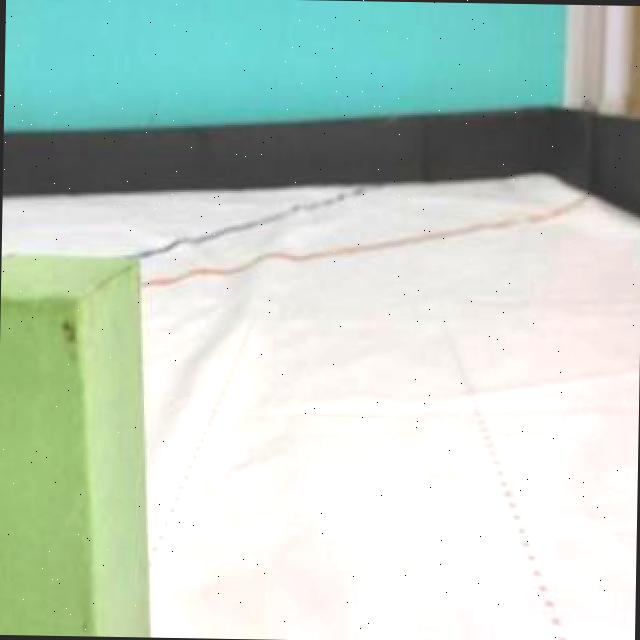greenbox: (0, 248, 157, 637)
